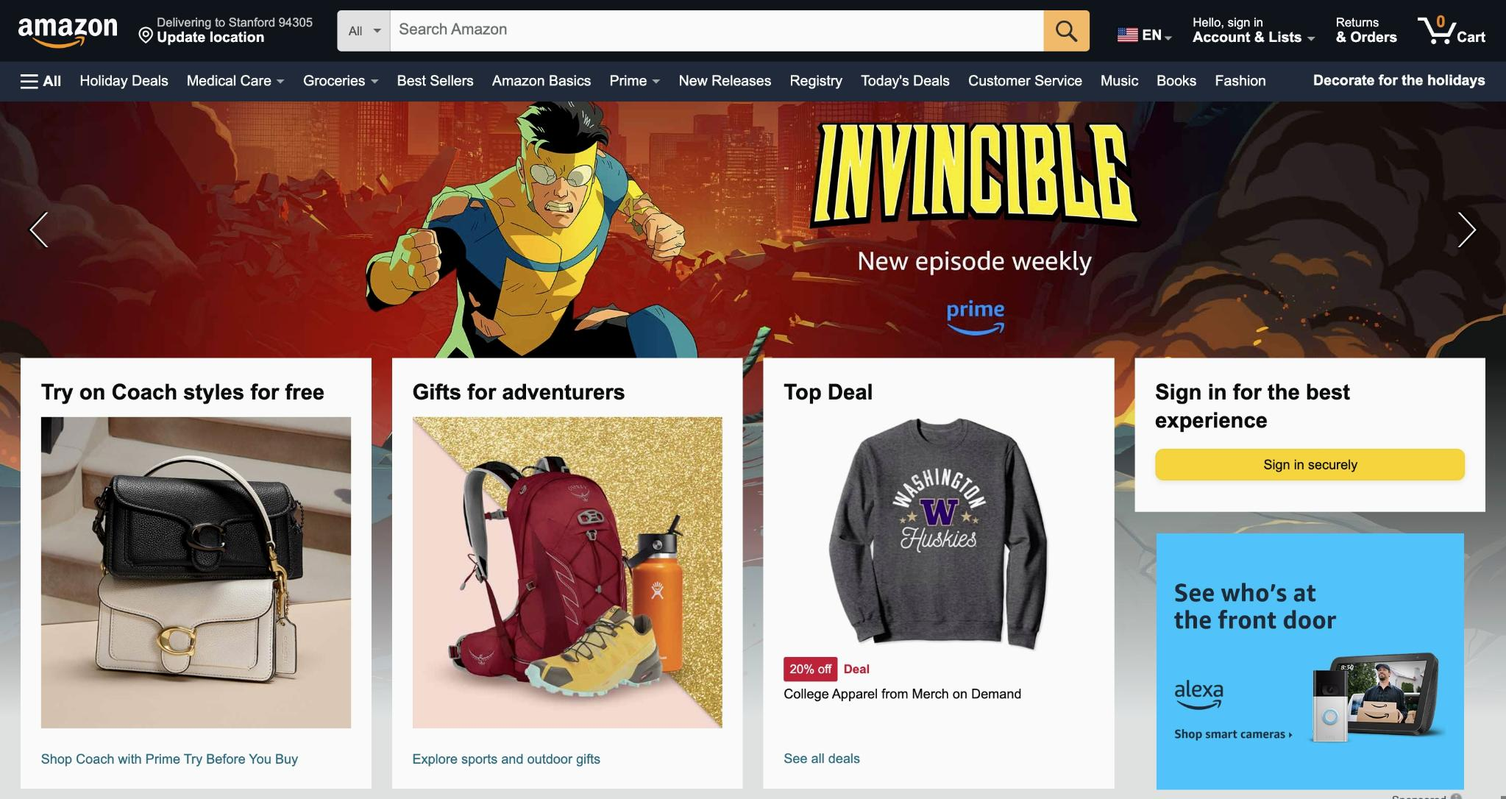webelement: (0, 100, 1505, 799), (0, 101, 1505, 716), (0, 0, 1505, 100), (1, 416, 390, 727), (372, 416, 761, 727), (1156, 533, 1463, 789), (826, 416, 1050, 651), (390, 10, 1043, 49), (1424, 101, 1506, 357), (0, 101, 81, 357), (1155, 379, 1464, 435), (128, 4, 321, 55), (1156, 450, 1463, 479), (338, 14, 563, 49), (1184, 4, 1325, 55), (408, 145, 629, 174), (11, 4, 127, 55), (784, 748, 1094, 767), (40, 751, 350, 768), (784, 685, 1094, 702), (412, 751, 721, 768), (1305, 67, 1493, 93), (1101, 106, 1274, 134), (1409, 4, 1495, 55), (158, 145, 302, 174), (1326, 4, 1406, 55), (959, 66, 1091, 95), (1105, 4, 1180, 55), (363, 106, 490, 134), (483, 66, 599, 95), (177, 66, 292, 95), (669, 66, 779, 95), (70, 106, 183, 134), (851, 66, 959, 95), (490, 106, 601, 134), (70, 66, 176, 95), (303, 145, 408, 174), (806, 106, 912, 134), (630, 145, 729, 174), (1002, 106, 1102, 134), (387, 66, 482, 95), (294, 66, 388, 95), (267, 106, 363, 134), (70, 145, 158, 174), (912, 106, 1002, 134), (156, 29, 312, 45), (10, 60, 69, 100), (721, 106, 805, 134), (183, 106, 266, 134), (156, 14, 312, 28), (644, 106, 720, 134), (780, 66, 850, 95), (600, 66, 669, 95), (1206, 66, 1275, 95), (1043, 9, 1089, 50), (1193, 29, 1316, 43), (1147, 66, 1205, 95), (1092, 66, 1148, 95), (186, 72, 270, 88), (602, 106, 644, 134), (1115, 25, 1171, 44), (276, 112, 340, 128), (303, 72, 365, 88), (1193, 14, 1263, 28), (1336, 14, 1397, 28), (1336, 29, 1397, 43), (348, 13, 367, 47), (610, 72, 647, 88), (1392, 793, 1464, 799), (803, 661, 830, 675), (843, 661, 868, 675), (37, 75, 60, 87), (790, 661, 803, 675)
